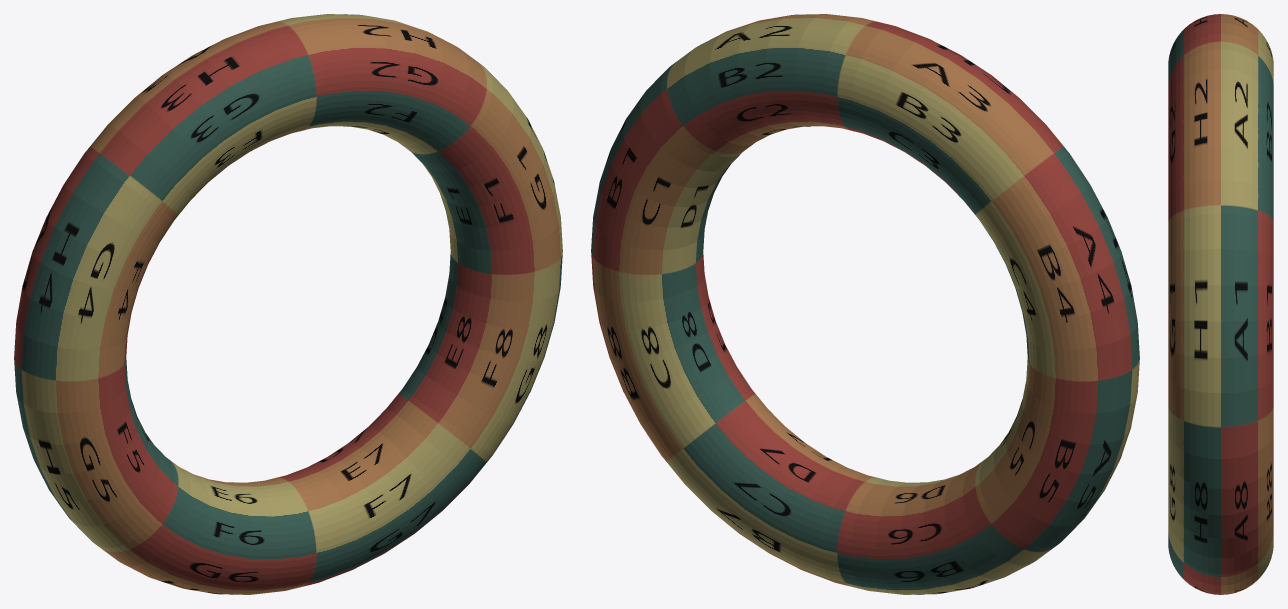
File: texture_torus_R29_r17.glb
The picture shows the model from 3 angles, left to right: view 1: azimuth 30°, elevation 25°; view 2: azimuth 150°, elevation 25°; view 3: azimuth 270°, elevation 25°; orthographic projection. The views are drawn at different scales.
Visible parts, largest first — view 1: world; view 2: world; view 3: world.
Boxes of the visible parts, x1,y1,x2,y2 form: world: (14,14,562,594); world: (591,14,1139,594); world: (1168,14,1273,594).
Bounding box in the file's own units: 35.87 × 35.8 × 6.52.
1 material, 1 textured.
